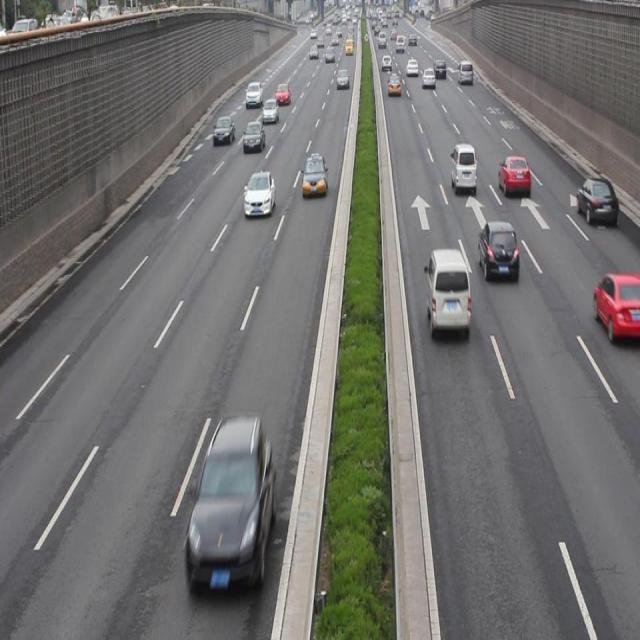car: (185, 412, 274, 589), (592, 271, 640, 342), (477, 220, 519, 284), (574, 174, 616, 227), (242, 168, 274, 218), (497, 153, 530, 200), (301, 153, 328, 197), (242, 120, 264, 155), (213, 114, 236, 144), (262, 98, 278, 126)
truck: (426, 246, 471, 336), (451, 142, 476, 192)
